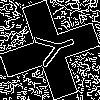Y: (25, 25, 79, 72)
